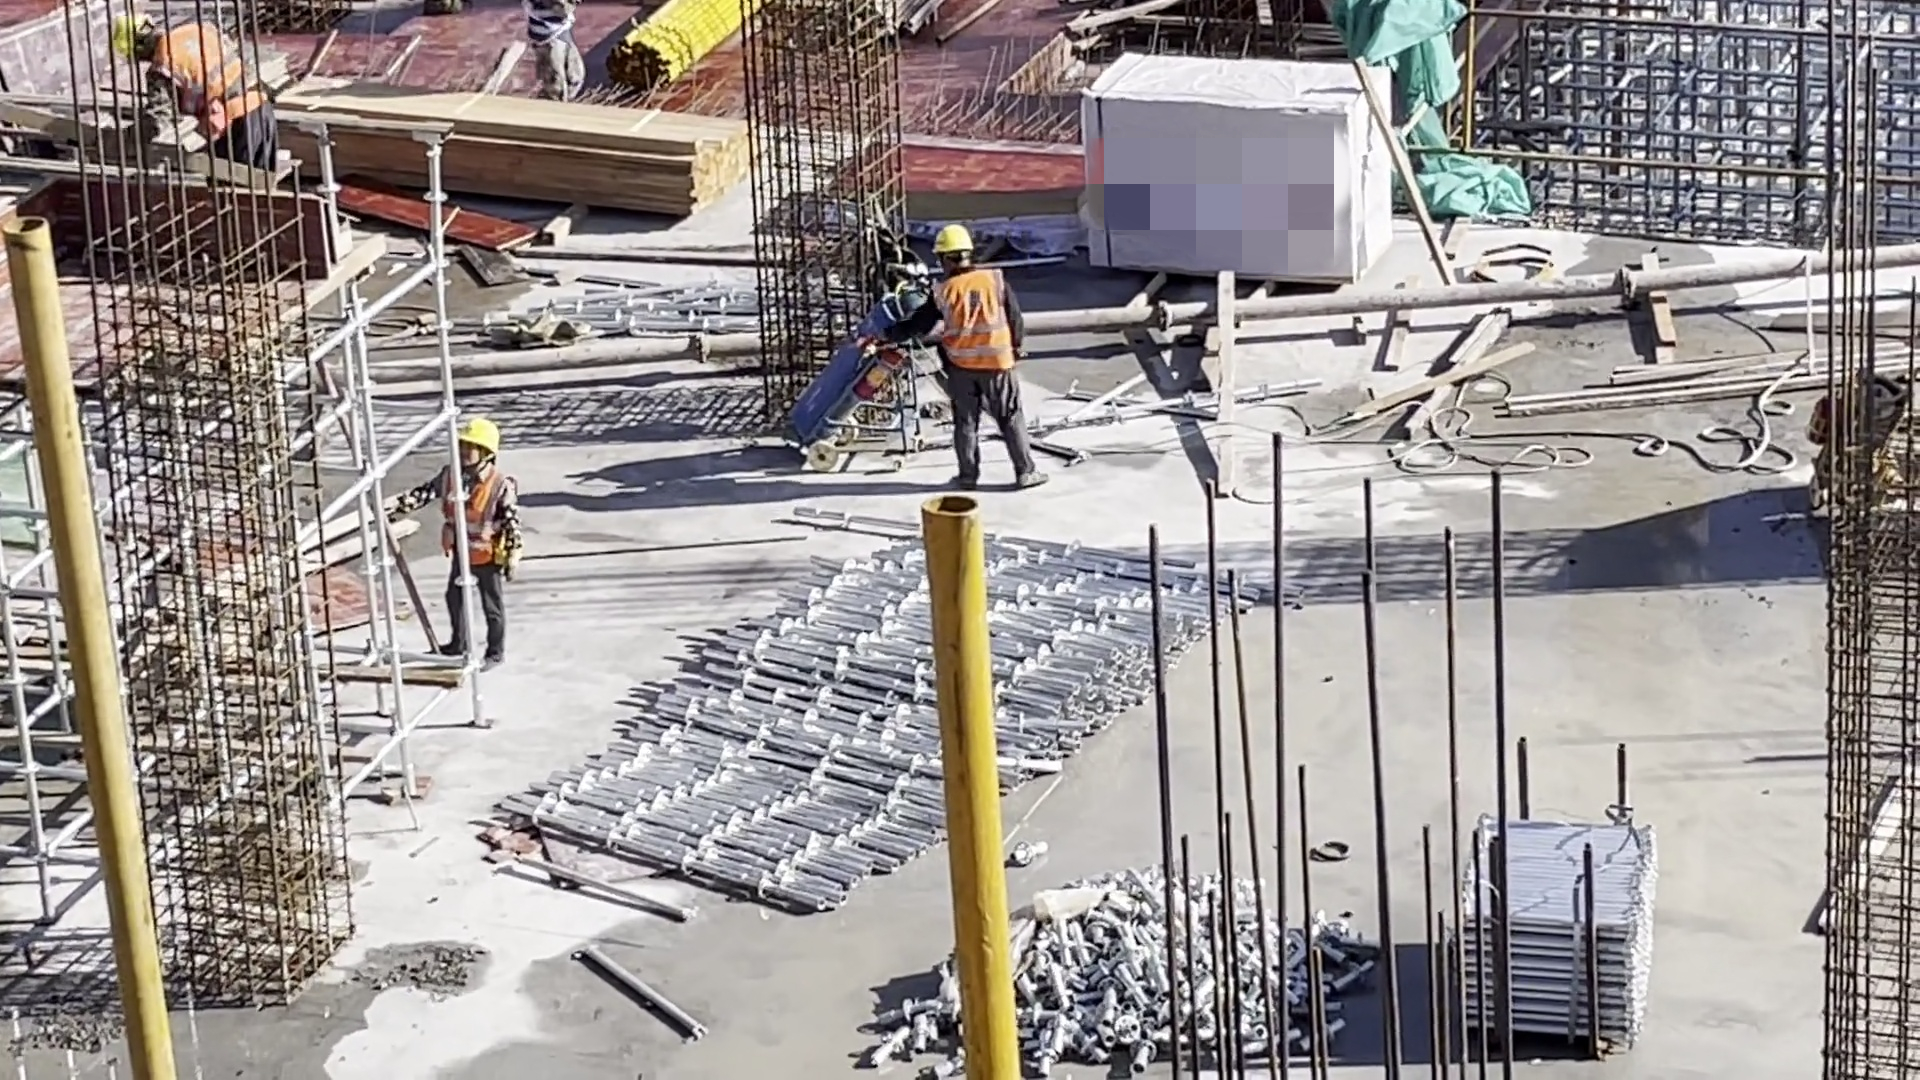helmet: (452, 418, 498, 460), (109, 12, 152, 57), (933, 224, 978, 250)
person: (901, 222, 1054, 497), (392, 417, 529, 668), (107, 9, 285, 167), (522, 5, 593, 95)
scaffold: (500, 504, 1302, 923), (1455, 812, 1655, 1052)
vest: (159, 22, 267, 135), (929, 271, 1014, 374), (436, 465, 503, 564)
wood: (291, 80, 751, 223)
